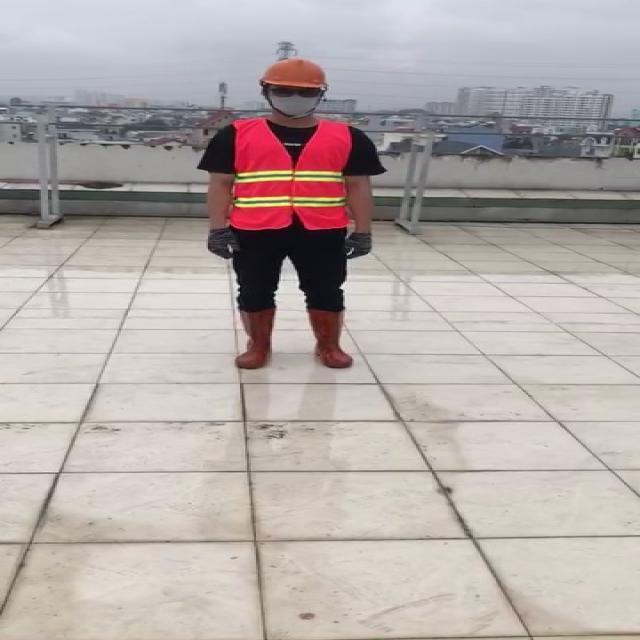gloves: (200, 224, 240, 263), (338, 229, 376, 263)
helmet: (256, 55, 338, 99)
safety_vest: (226, 111, 354, 232)
